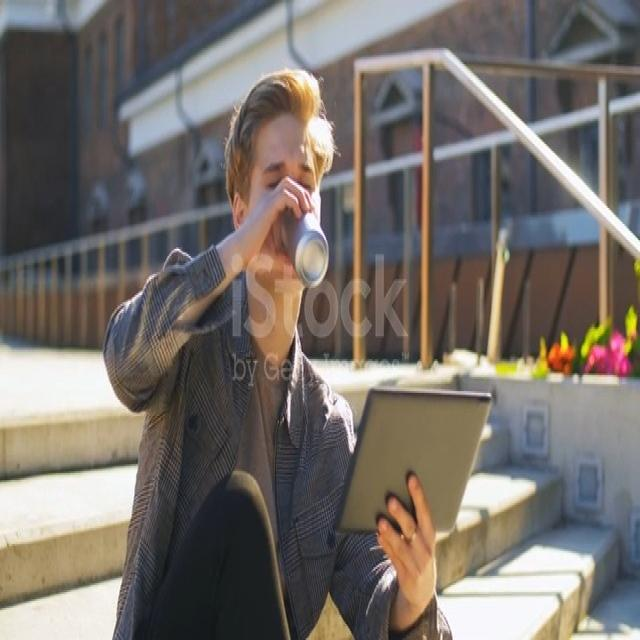can: (279, 197, 331, 288)
